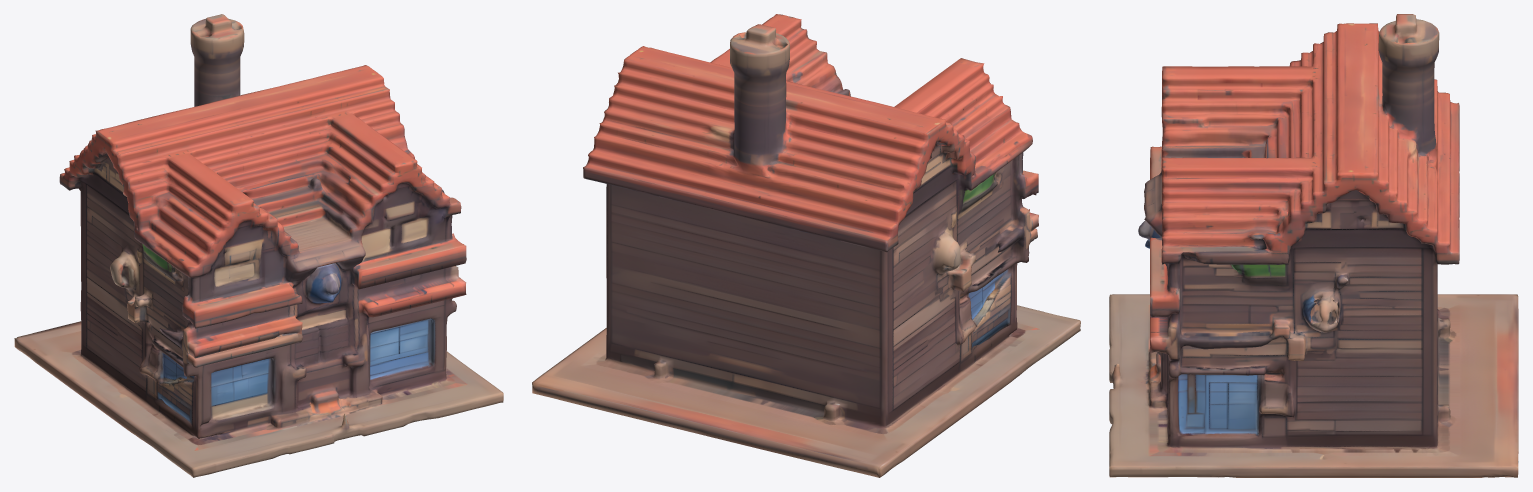
Rendered from base_basic_pbr.fbx.
3 views of the same model, side by side, from view 1: azimuth 30°, elevation 25°; view 2: azimuth 150°, elevation 25°; view 3: azimuth 270°, elevation 25° (orthographic). The views are drawn at different scales.
Parts seen in each view (by area): view 1: model; view 2: model; view 3: model.
Part boxes in pixels (bbox=[...]): model: bbox=[14, 14, 503, 477]; model: bbox=[532, 14, 1080, 477]; model: bbox=[1109, 14, 1518, 477].
Bounding box in the file's own units: 190 × 191 × 190.
1 material, 1 textured.
